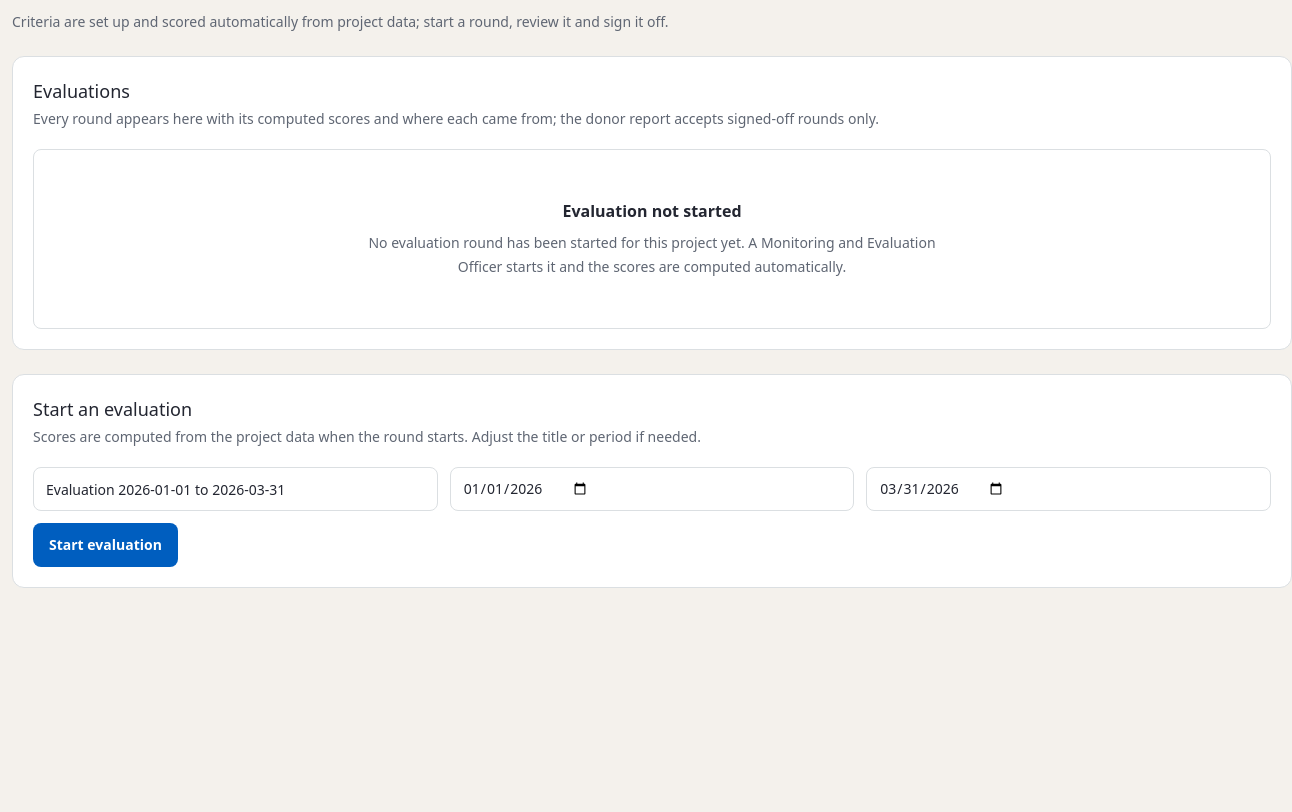
Test: automatic evaluation workspace › refuses to start a round that ends before it begins
This screenshot has width=1292, height=812.
Type "2025-12-31" into the date field named "Period end" at (1069, 489), box [866, 467, 1271, 511]
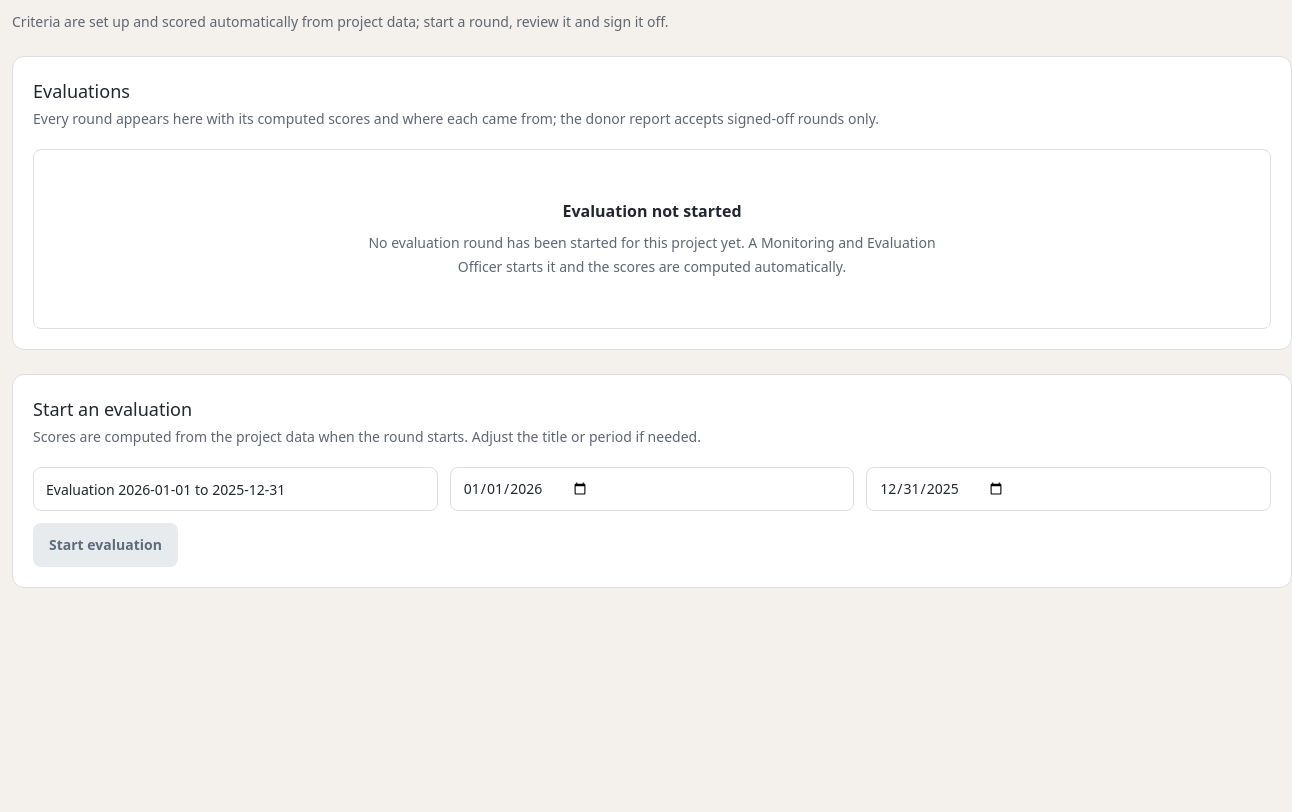
Check: the button "Start evaluation" is disabled, box [33, 523, 178, 567]
